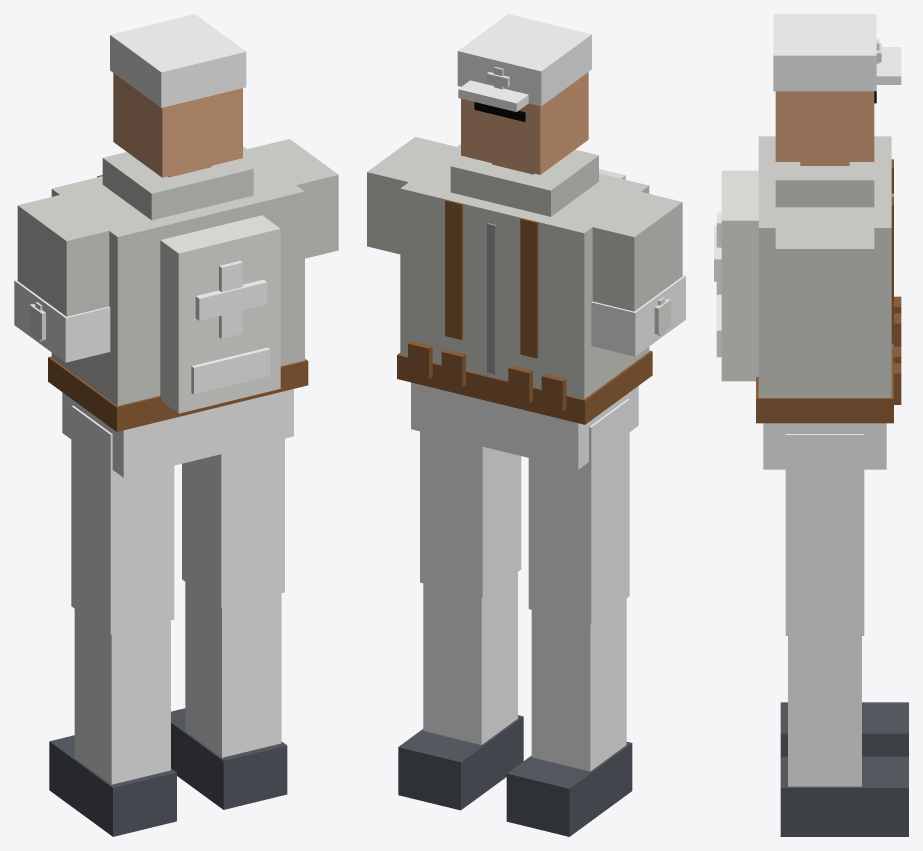
File: MEDIC.gltf
The picture shows the model from 3 angles, left to right: view 1: azimuth 30°, elevation 25°; view 2: azimuth 150°, elevation 25°; view 3: azimuth 270°, elevation 25°; orthographic projection. The views are drawn at different scales.
Visible parts, largest first — view 1: MEDIC; view 2: MEDIC; view 3: MEDIC.
Boxes of the visible parts, <box> form: MEDIC: <box>14,14,338,836</box>; MEDIC: <box>367,14,685,836</box>; MEDIC: <box>714,14,908,836</box>.
Size of the model in its own units: 0.655 by 1.7 by 0.395.
